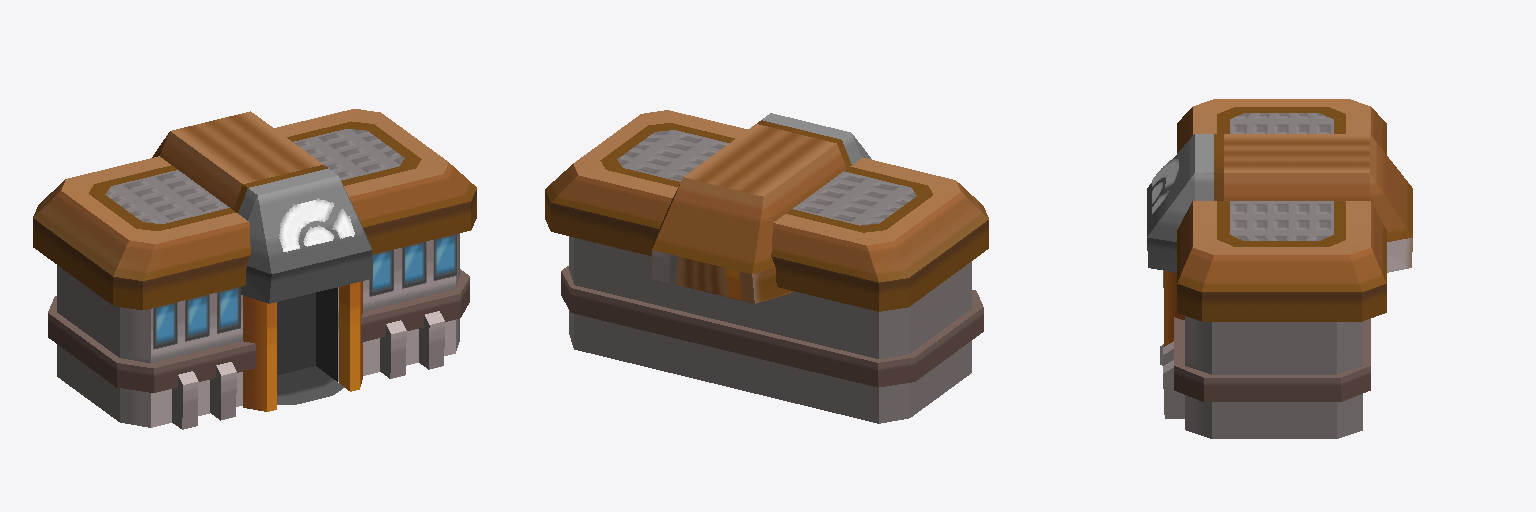
The picture shows the model from 3 angles: view 1: azimuth 30°, elevation 25°; view 2: azimuth 150°, elevation 25°; view 3: azimuth 270°, elevation 25°; orthographic projection.
Parts seen in each view (by area): view 1: polygon6; view 2: polygon6; view 3: polygon6.
Part boxes in pixels (x1,y1,x2,y2): polygon6: (33, 109, 476, 429); polygon6: (545, 110, 988, 423); polygon6: (1147, 99, 1412, 438).
Size of the model in its own units: 2.75 by 1.47 by 1.74.
Materials: 6 (1 with a texture image).